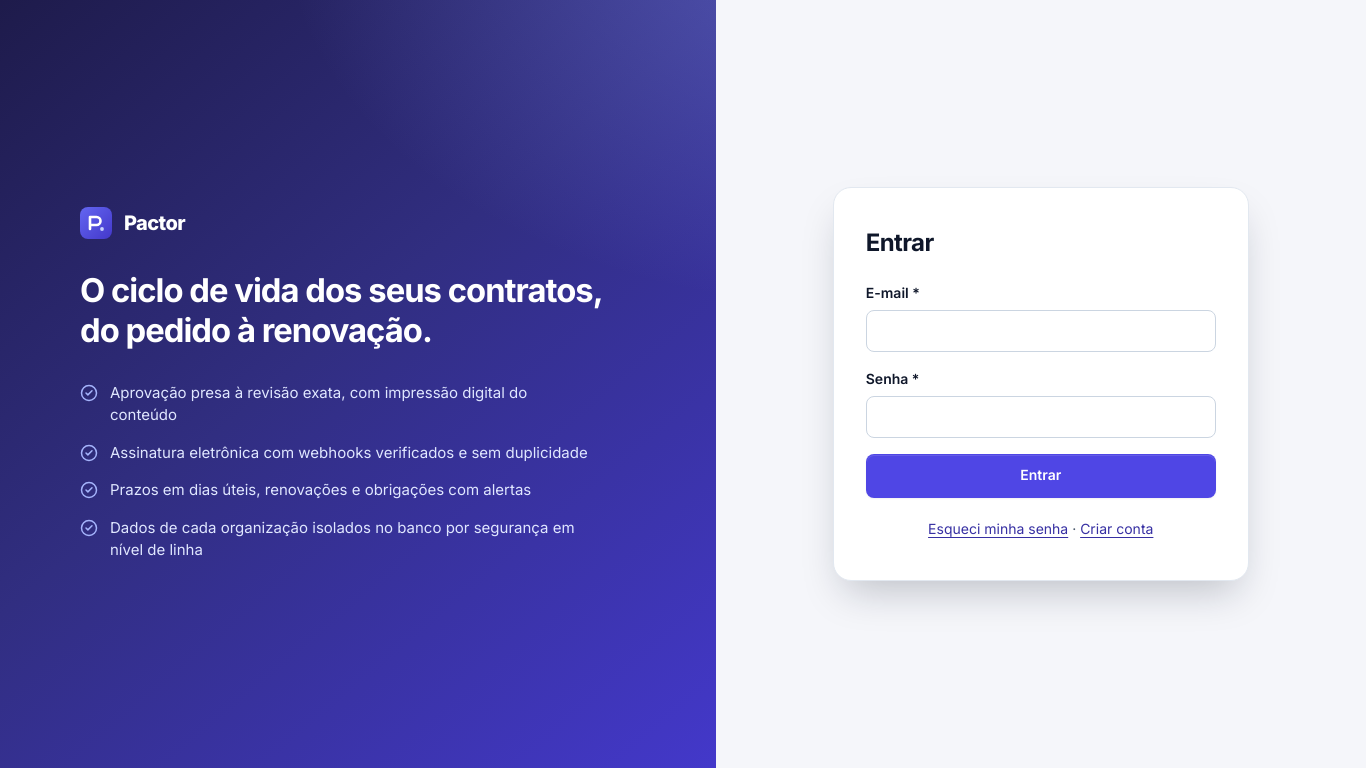
LoginPage › mostra o erro de credenciais no campo e não troca de etapa
Type "a@exemplo.test" into the field labelled "E-mail *".
click(1041, 331); type("a@exemplo.test")  # box [866,310,1216,352]
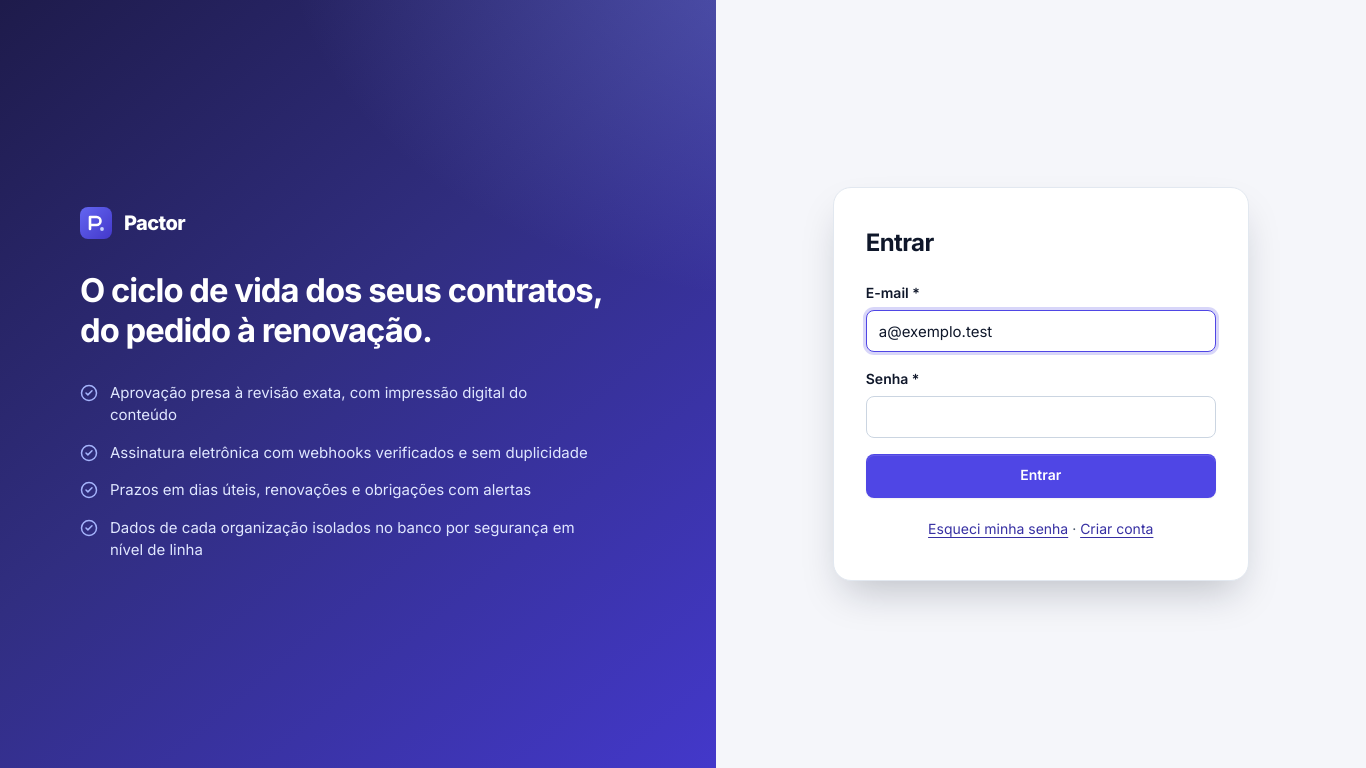
Type "errada" into the password field labelled "Senha *".
click(1041, 417); type("errada")  # box [866,396,1216,438]
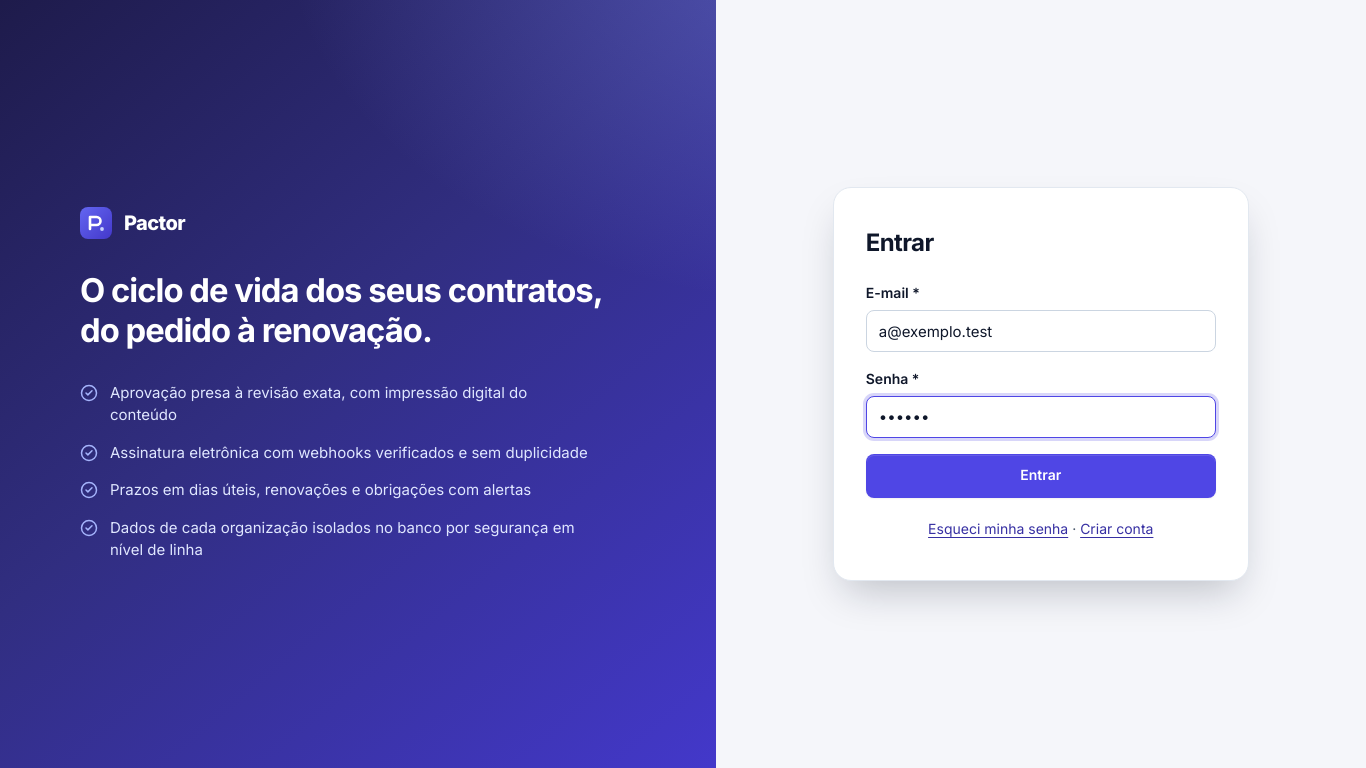
Click the button "Entrar".
click(1041, 476)  # box [866,454,1216,498]
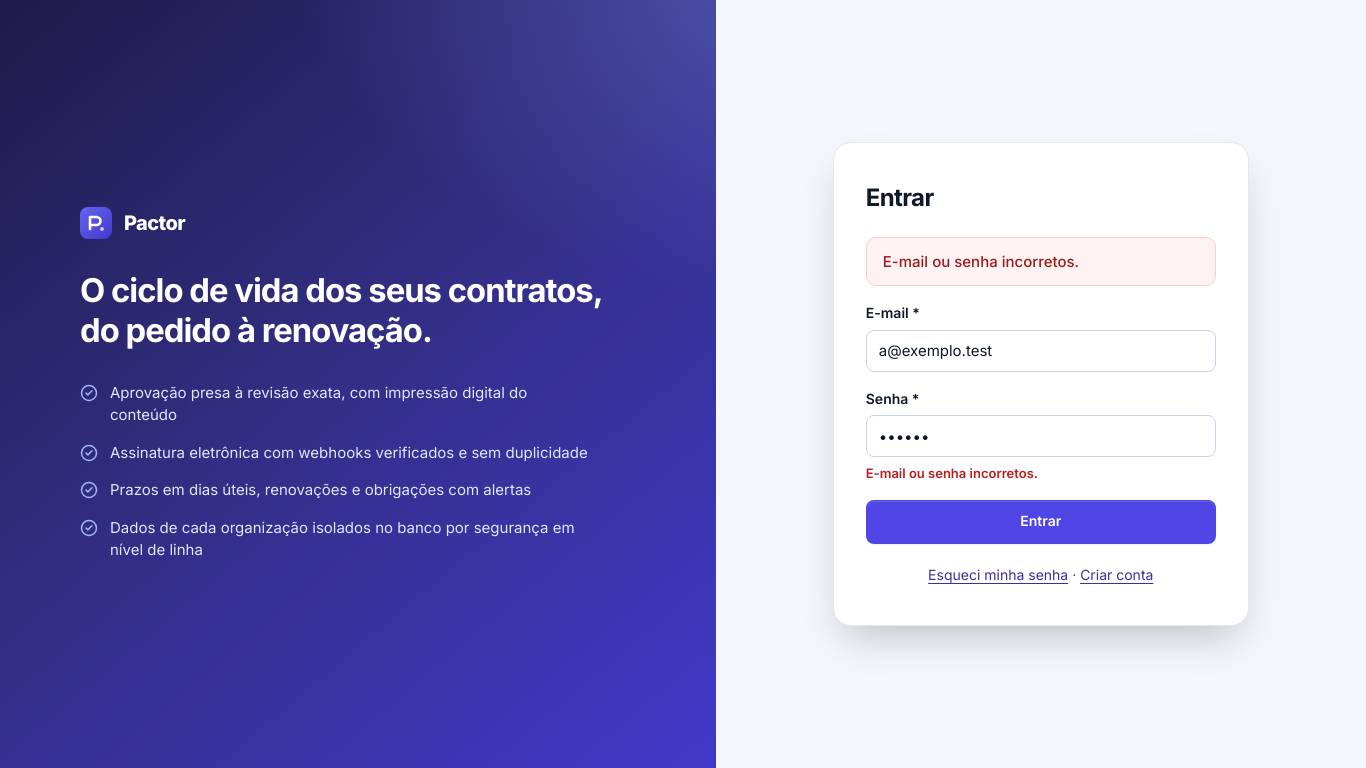
Now the message reads "E-mail ou senha incorretos.", box [883,252,1079,271]
